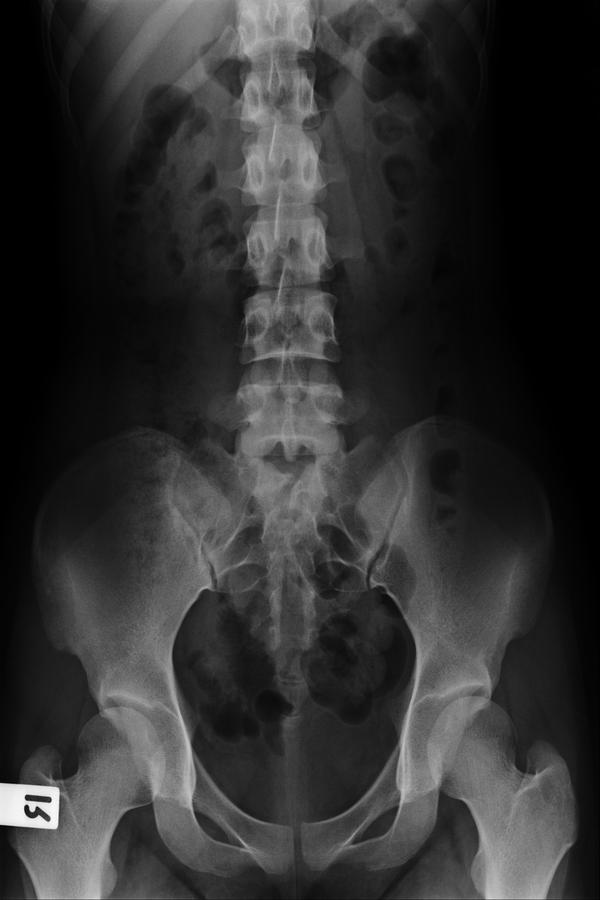not lumbar scoliosis: (233, 155, 346, 516)
